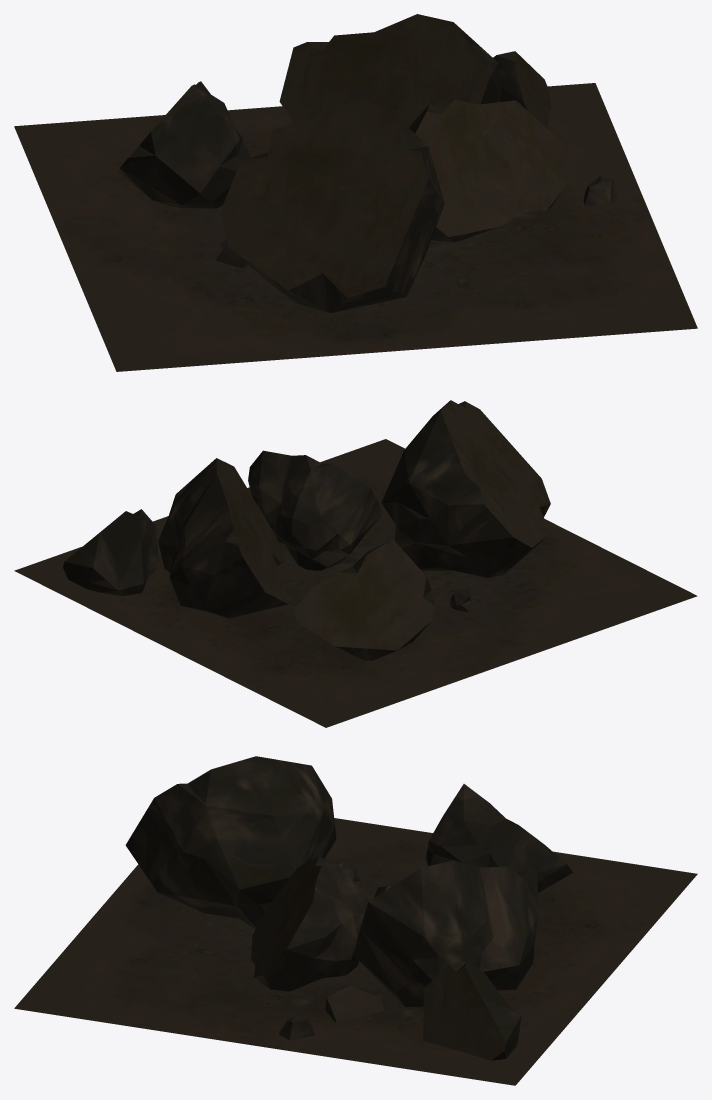
The model's file is fortress_rubble_02.fbx.
3 views of the same model, one above another, from view 1: azimuth 30°, elevation 25°; view 2: azimuth 150°, elevation 25°; view 3: azimuth 270°, elevation 25° (orthographic). The views are drawn at different scales.
Parts seen in each view (by area): view 1: fortress_rubble_02-0; view 2: fortress_rubble_02-0; view 3: fortress_rubble_02-0.
Part boxes in pixels (bbox=[...]): fortress_rubble_02-0: bbox=[14, 14, 697, 371]; fortress_rubble_02-0: bbox=[14, 400, 697, 727]; fortress_rubble_02-0: bbox=[14, 756, 697, 1085].
Bounding box in the file's own units: 5.13 × 1.43 × 5.13.
